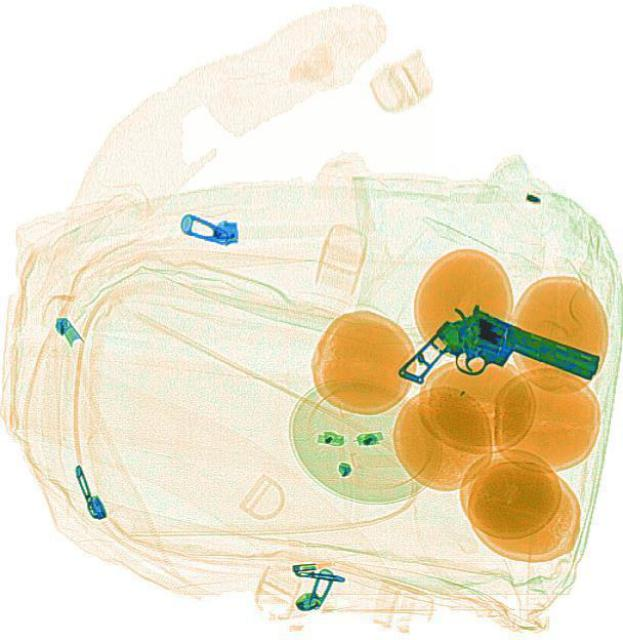Gun: (394, 286, 604, 440)
